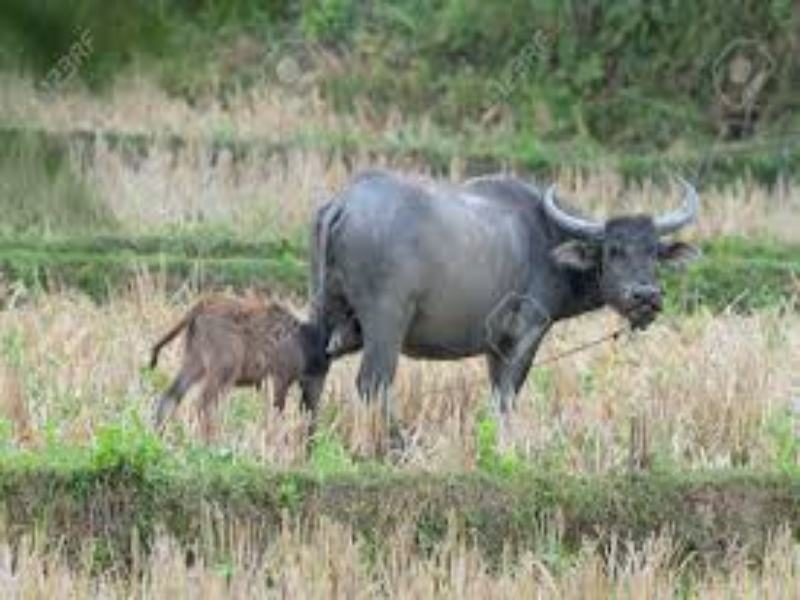buffalo: (151, 165, 737, 475)
